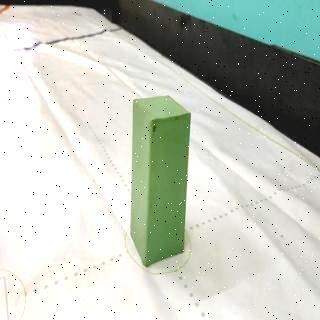greenbox: (128, 94, 192, 270)
